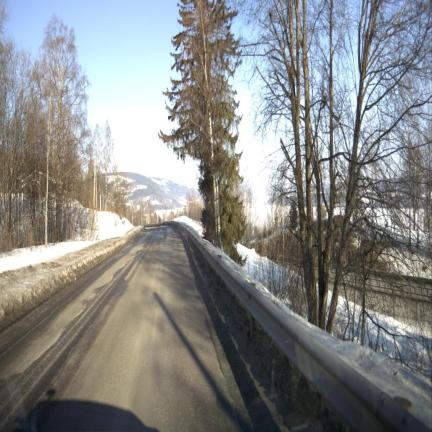Road: (0, 228, 251, 430)
